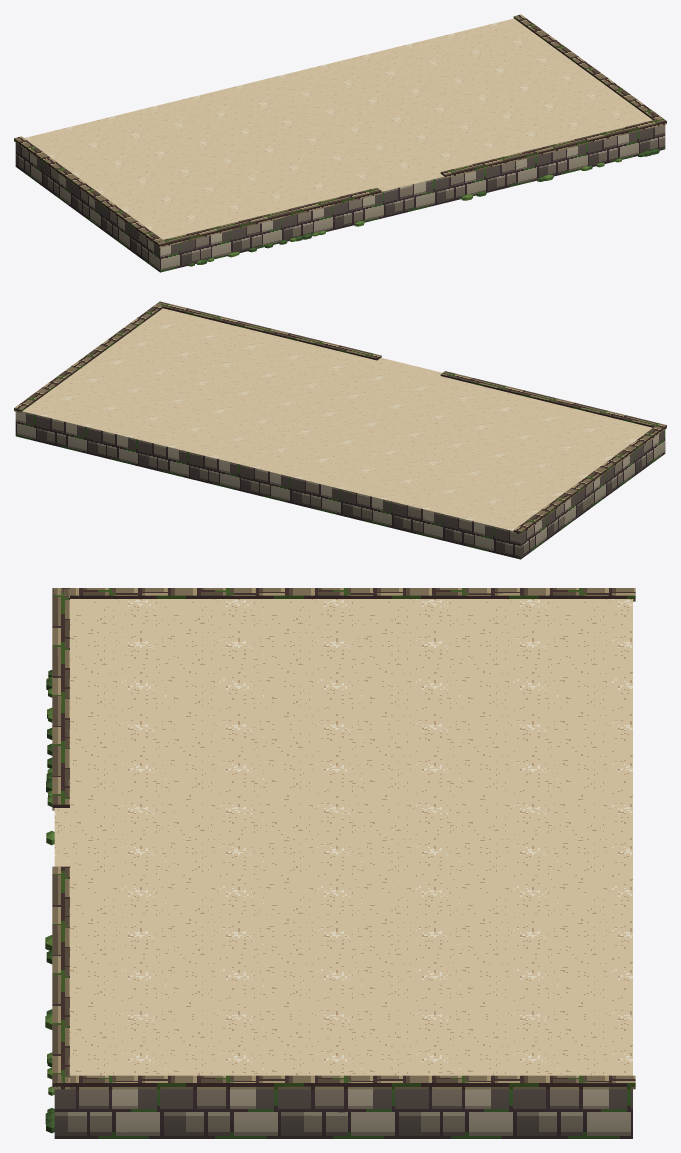
Rendered from scene_plat_b6.glb.
3 views of the same model, one above another, from view 1: azimuth 30°, elevation 25°; view 2: azimuth 150°, elevation 25°; view 3: azimuth 270°, elevation 25° (orthographic). The views are drawn at different scales.
Parts seen in each view (by area): view 1: scene_plat_b6; view 2: scene_plat_b6; view 3: scene_plat_b6.
Boxes of the visible parts, box(x1,y1,x2,y2) form: scene_plat_b6: box(14, 14, 666, 272); scene_plat_b6: box(14, 301, 666, 559); scene_plat_b6: box(45, 588, 635, 1138).
Bounding box in the file's own units: 23.9 × 1.37 × 12.04.
Materials: 3 (2 with a texture image).
